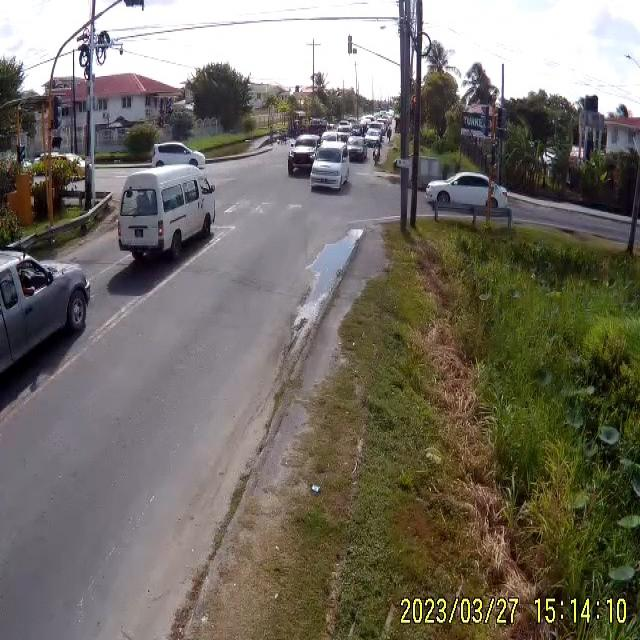car: (1, 238, 94, 450), (117, 166, 216, 261), (425, 172, 509, 212), (309, 150, 351, 192), (154, 143, 208, 170), (286, 137, 318, 178)
